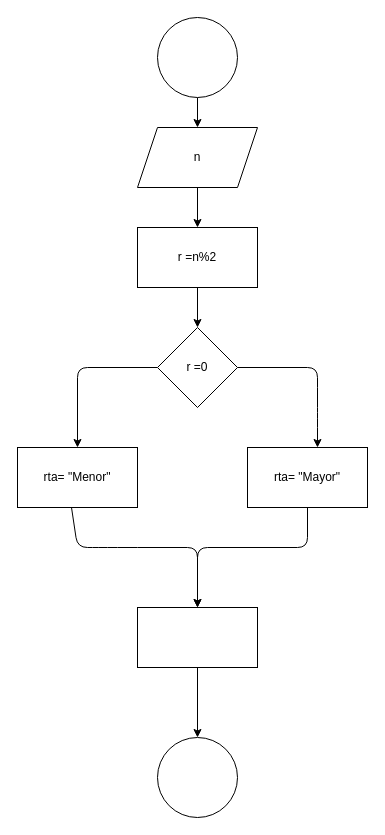
This 385x835 diagram has some shape labels left out. The shapes that lost their labels are listed below. From the top down, each one's centre as x and y in pixels, then its label:
At point 197,57: "Inicio".
At point 197,637: "rta".
